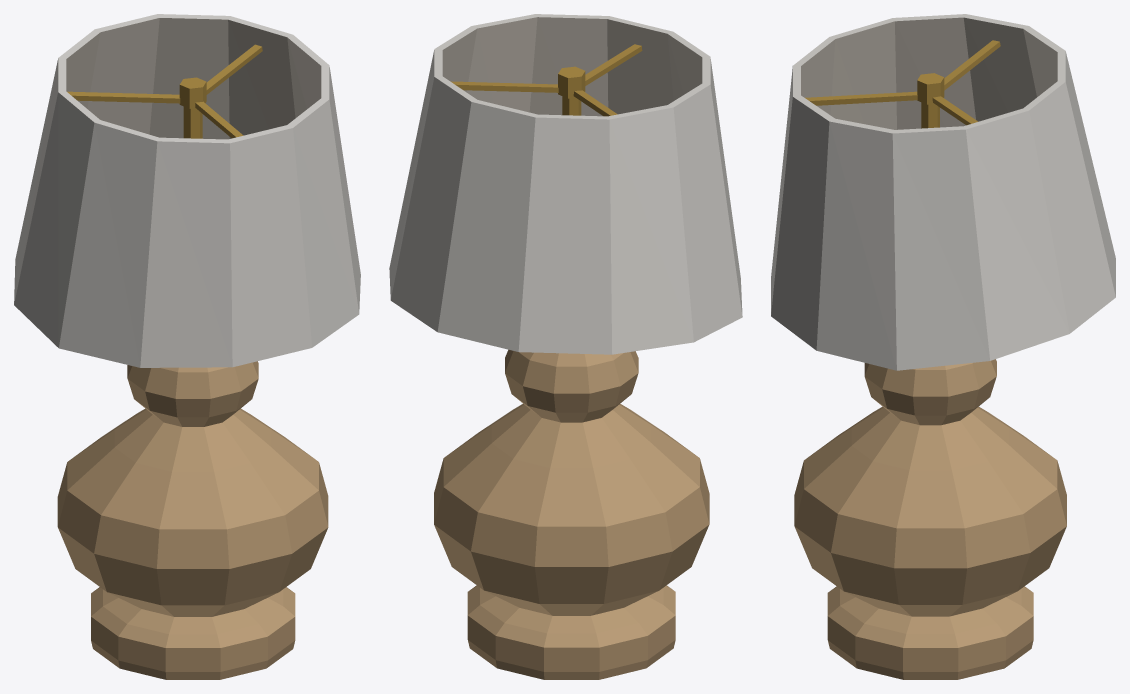
Rendered from table-lamp-e25998.glb.
3 renders of one model, left to right at view 1: azimuth 30°, elevation 25°; view 2: azimuth 150°, elevation 25°; view 3: azimuth 270°, elevation 25°, orthographic.
Visible parts, largest first — view 1: table-lamp-mesh; view 2: table-lamp-mesh; view 3: table-lamp-mesh.
Part boxes in pixels (x1=…): table-lamp-mesh: x1=14, y1=14, x2=360, y2=679; table-lamp-mesh: x1=389, y1=14, x2=742, y2=679; table-lamp-mesh: x1=771, y1=14, x2=1115, y2=679.
Size of the model in its own units: 0.2514 by 0.4509 by 0.2468.
